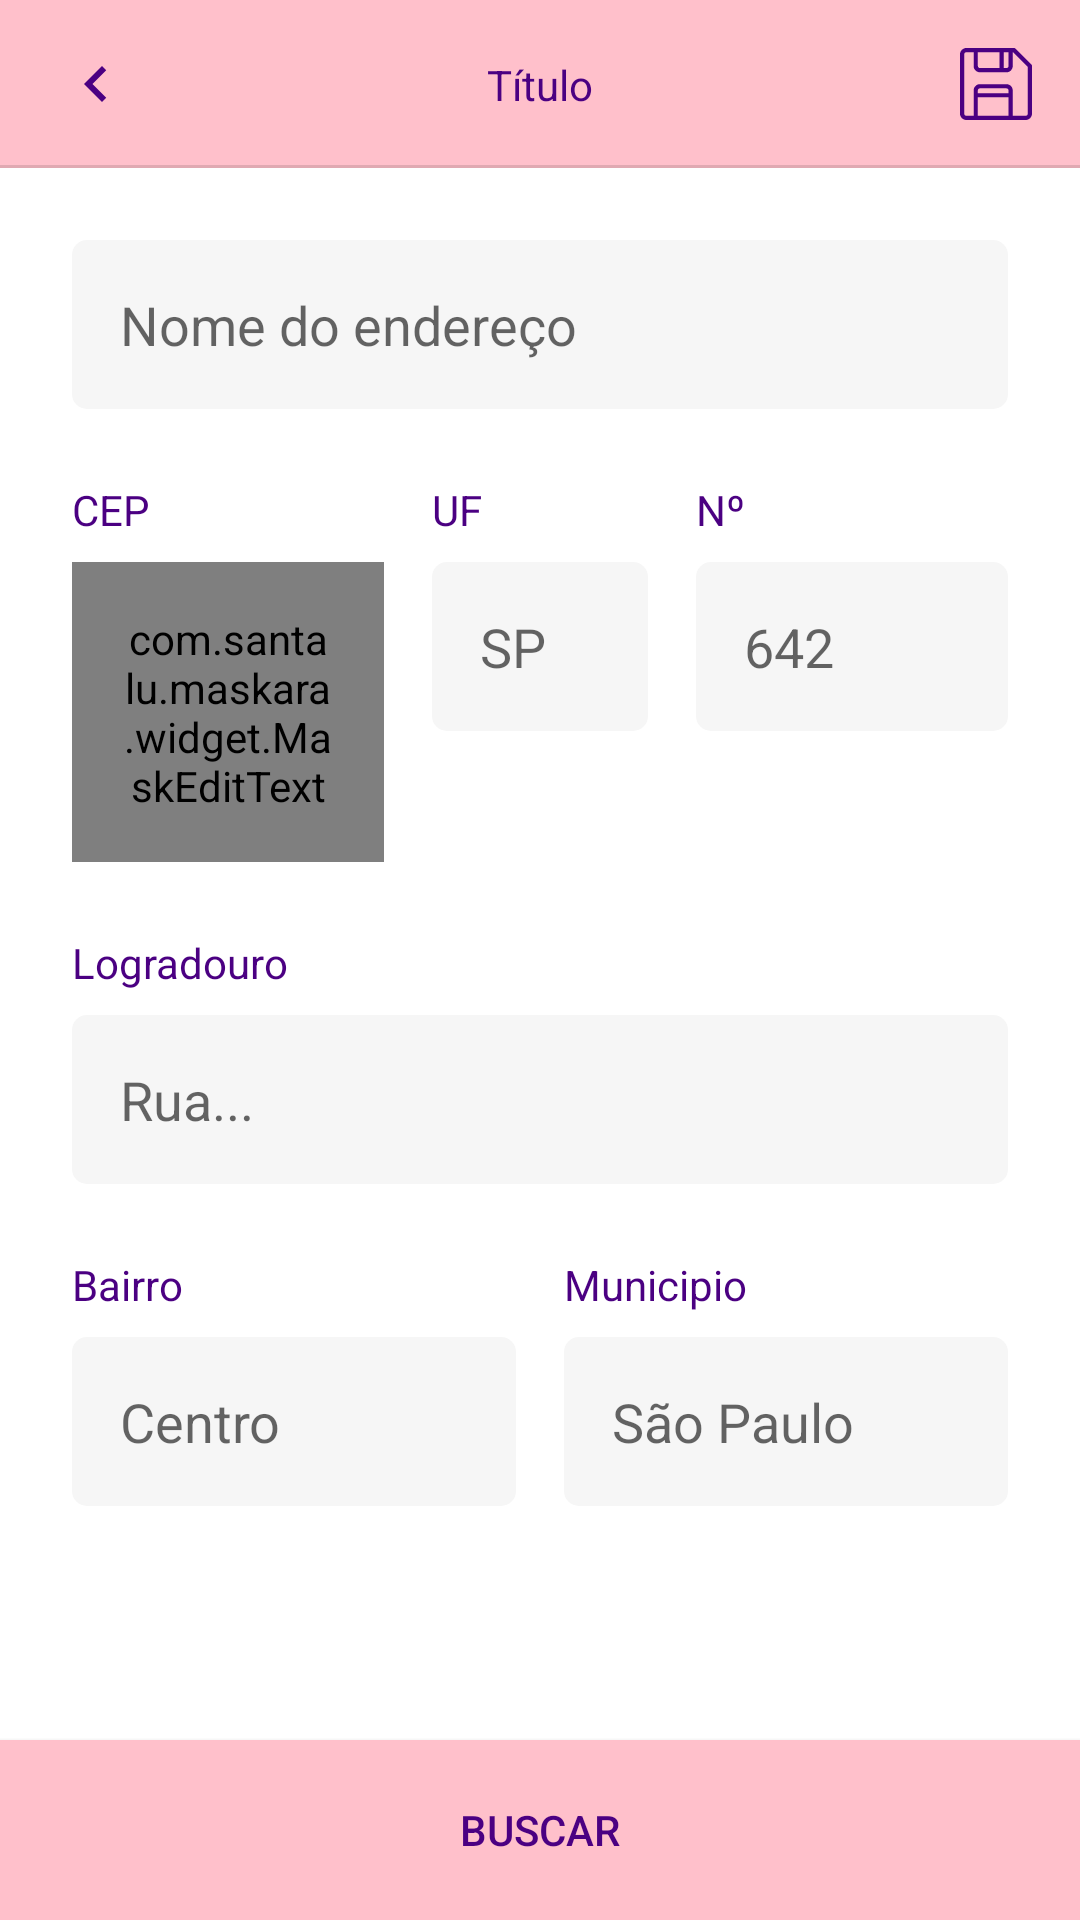

Screen size 1080px x 1920px. Icon name, then its box in pixels as box(x1, y1, x2, y2):
voltar: box(84, 66, 106, 102)
